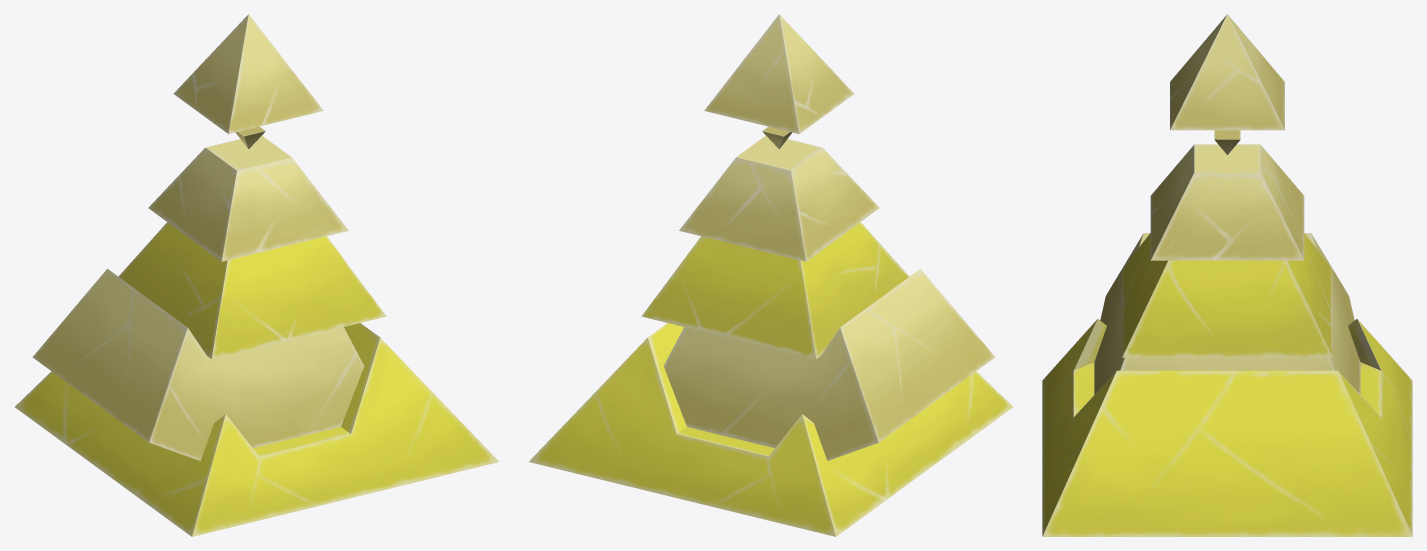
Rendered from shangjiajudian_4.FBX.
3 views of the same model, side by side, from view 1: azimuth 30°, elevation 25°; view 2: azimuth 150°, elevation 25°; view 3: azimuth 270°, elevation 25° (orthographic). The views are drawn at different scales.
Visible parts, largest first — view 1: shangjiajudian_4; view 2: shangjiajudian_4; view 3: shangjiajudian_4.
Boxes of the visible parts, <box> form: shangjiajudian_4: <box>15,14,498,536</box>; shangjiajudian_4: <box>529,14,1012,536</box>; shangjiajudian_4: <box>1042,14,1412,536</box>.
Bounding box in the file's own units: 48.32 × 60.97 × 46.43.
